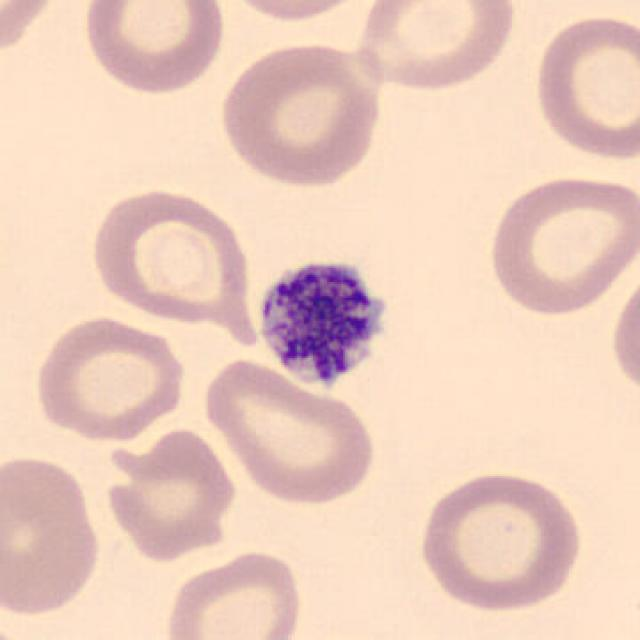Platelets: (252, 248, 404, 400)
RBC: (198, 354, 380, 508), (213, 37, 386, 190), (412, 467, 586, 614), (86, 182, 254, 328), (482, 169, 638, 319), (30, 312, 190, 444), (98, 422, 240, 562), (0, 451, 105, 621), (528, 9, 638, 164), (350, 0, 521, 95), (76, 0, 228, 97), (160, 546, 306, 640), (608, 264, 640, 408), (210, 0, 380, 25), (0, 0, 64, 65)
